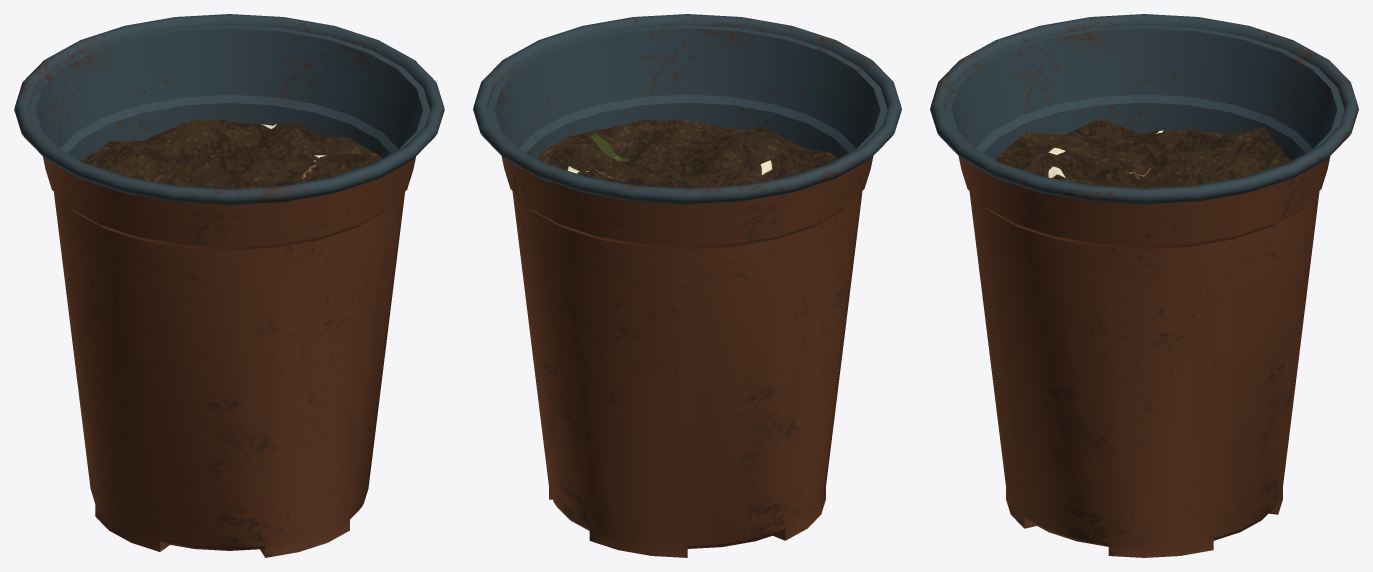
3 renders of one model, left to right at view 1: azimuth 30°, elevation 25°; view 2: azimuth 150°, elevation 25°; view 3: azimuth 270°, elevation 25°, orthographic.
Visible parts, largest first — view 1: Pot, DirtMesh; view 2: Pot, DirtMesh; view 3: Pot, DirtMesh.
Boxes of the visible parts, x1,y1,x2,y2 form: Pot: [14, 14, 444, 557]; DirtMesh: [79, 119, 381, 188]; Pot: [473, 14, 901, 557]; DirtMesh: [536, 119, 838, 188]; Pot: [930, 14, 1358, 557]; DirtMesh: [995, 118, 1291, 188].
Size of the model in its own units: 0.0886 by 0.0886 by 0.0905.
2 materials, 2 textured.
